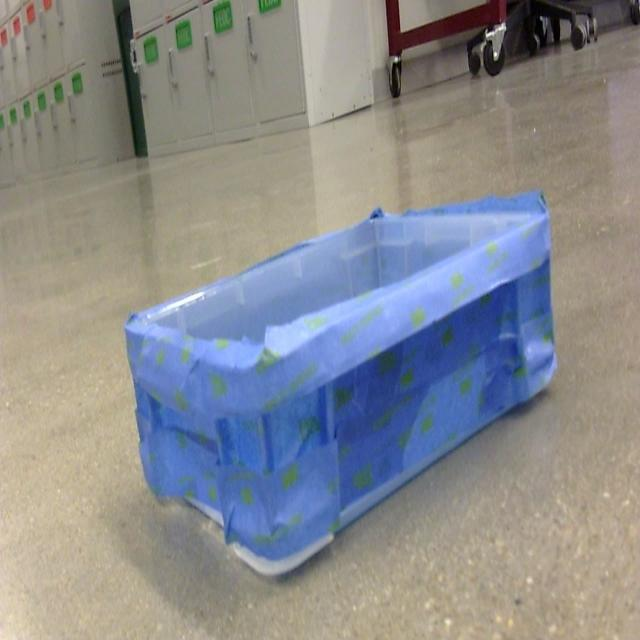bucket: (123, 191, 558, 584)
